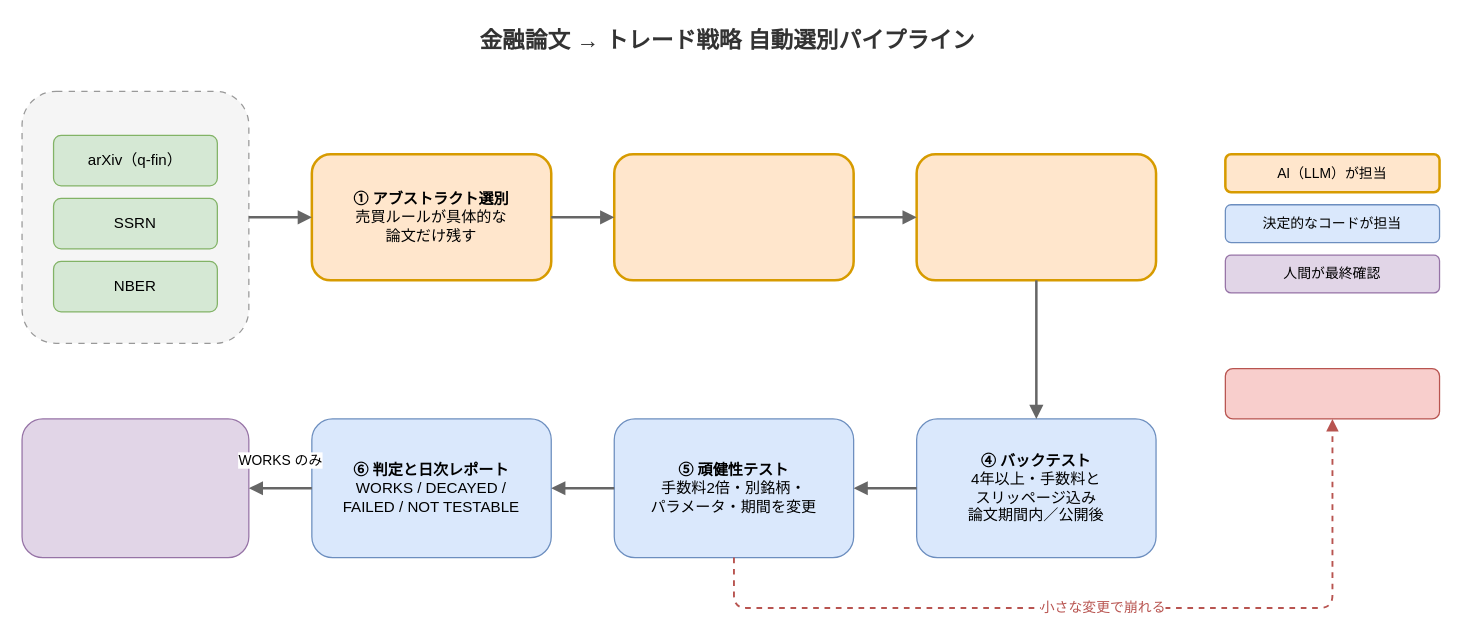
Some shapes in this 1463 by 640 pixel diagram are drawn without their labels. Each missing label, with the box of its shape:
② YAML 抽出 数式・変数・売買条件・ 必要データ・論文の成績: (612, 152, 854, 281)
③ コード化と照合 テストデータで 論文の数式と一致を確認: (915, 152, 1157, 281)
⑦ ペーパートレード 実資金の前に 仮想売買で確認: (21, 418, 249, 558)
破棄（カーブフィッティング）: (1224, 367, 1440, 419)
論文ソース（24時間監視）: (21, 90, 249, 343)
